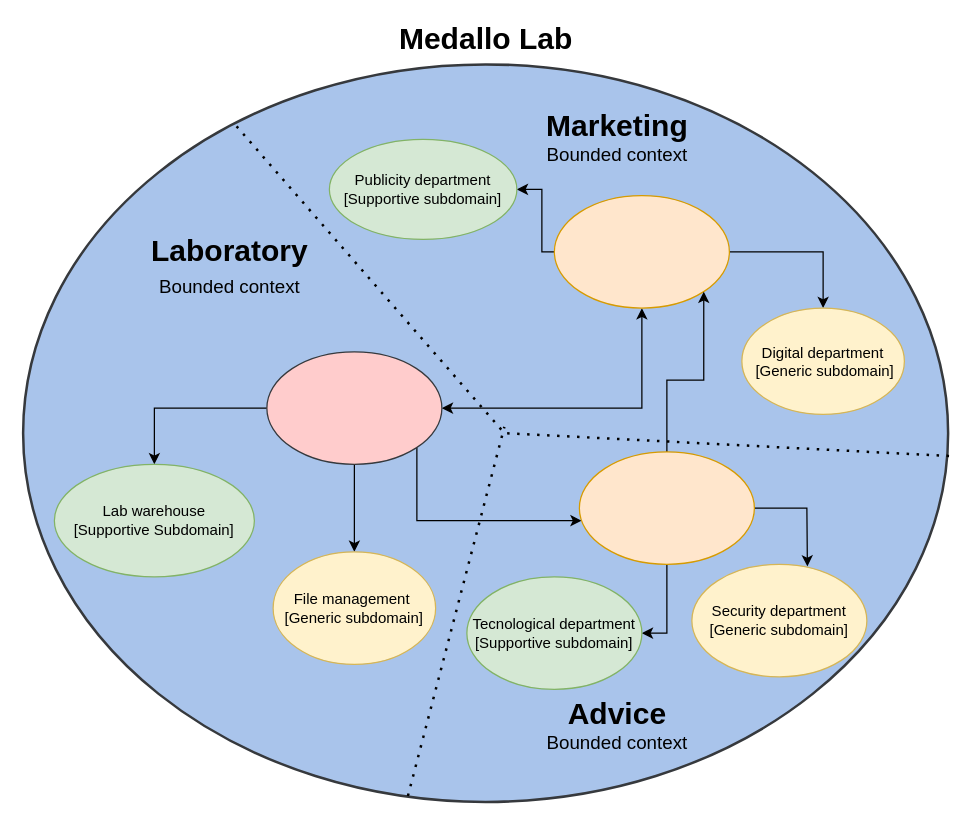
Some shapes in this 973 by 825 pixel diagram are drawn without their labels. The shapes that lost their labels are listed below. From the top down, each one's box as (x1, y1, x2, y2) in pixels, then its label:
(553, 194, 729, 308): Comercial department [Core subdomain]
(266, 351, 442, 464): Clinical laboratory [Core subdomain]
(578, 451, 754, 564): Call center [Core subdomain]
